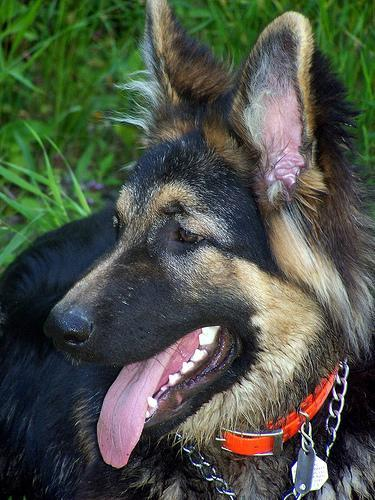German_shepherd: (1, 1, 373, 498)
